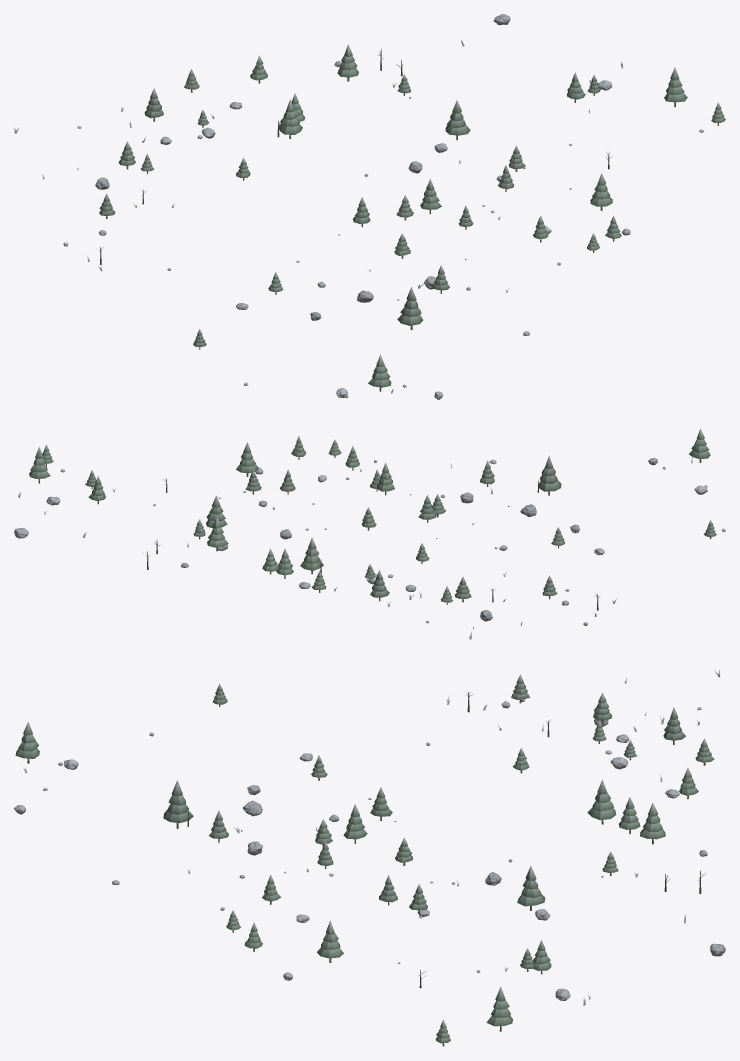
The model's file is frost_land_scatter_c15_11.glb.
The picture shows the model from 3 angles, top to bottom: view 1: azimuth 30°, elevation 25°; view 2: azimuth 150°, elevation 25°; view 3: azimuth 270°, elevation 25°; orthographic projection. The views are drawn at different scales.
Visible parts, largest first — view 1: frost_land_scatter_c15_11; view 2: frost_land_scatter_c15_11; view 3: frost_land_scatter_c15_11.
Boxes of the visible parts, box(x1,y1,x2,y2) form: frost_land_scatter_c15_11: box(14, 14, 725, 399); frost_land_scatter_c15_11: box(14, 428, 725, 639); frost_land_scatter_c15_11: box(14, 670, 725, 1046).
Bounding box in the file's own units: 257 × 40.15 × 223.
